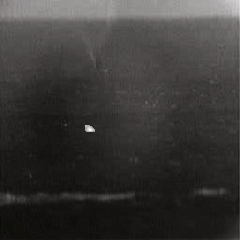Target: (84, 125, 97, 133)
